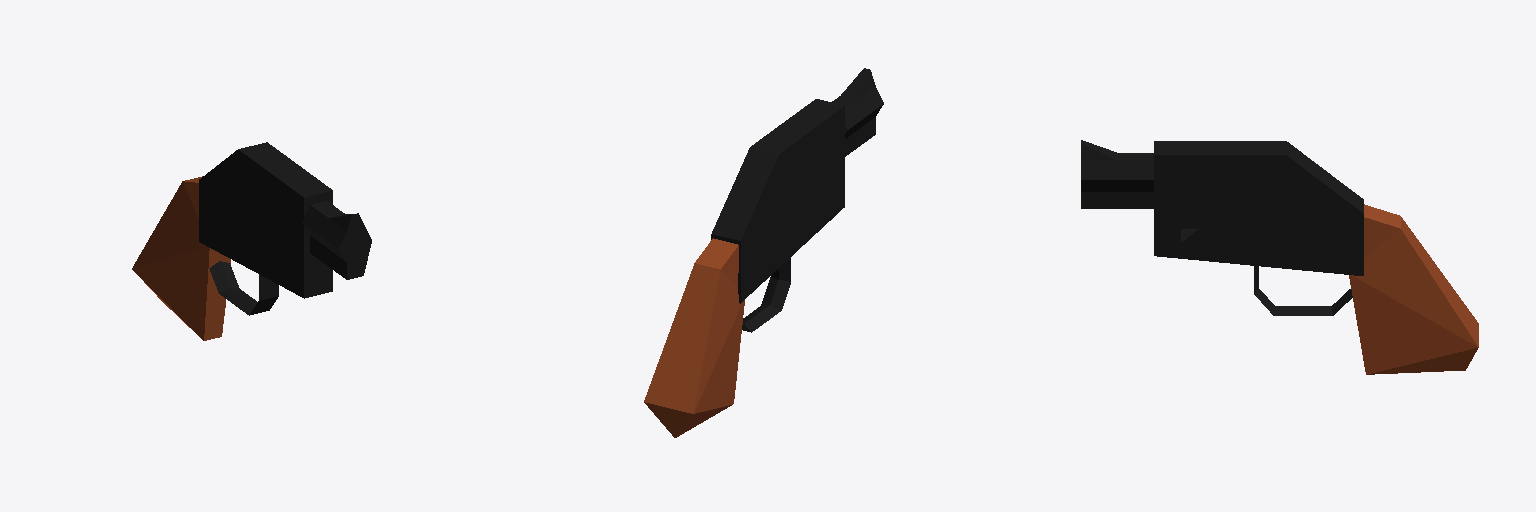
The model's file is detective_b.obj.
The picture shows the model from 3 angles: view 1: azimuth 30°, elevation 25°; view 2: azimuth 150°, elevation 25°; view 3: azimuth 270°, elevation 25°; orthographic projection.
Visible parts, largest first — view 1: Detective_Body_ID421.001; view 2: Detective_Body_ID421.001; view 3: Detective_Body_ID421.001.
Part boxes in pixels (bbox=[...]): Detective_Body_ID421.001: bbox=[132, 142, 371, 340]; Detective_Body_ID421.001: bbox=[644, 68, 883, 437]; Detective_Body_ID421.001: bbox=[1081, 140, 1478, 374].
Bounding box in the file's own units: 0.024 × 0.1055 × 0.1659.